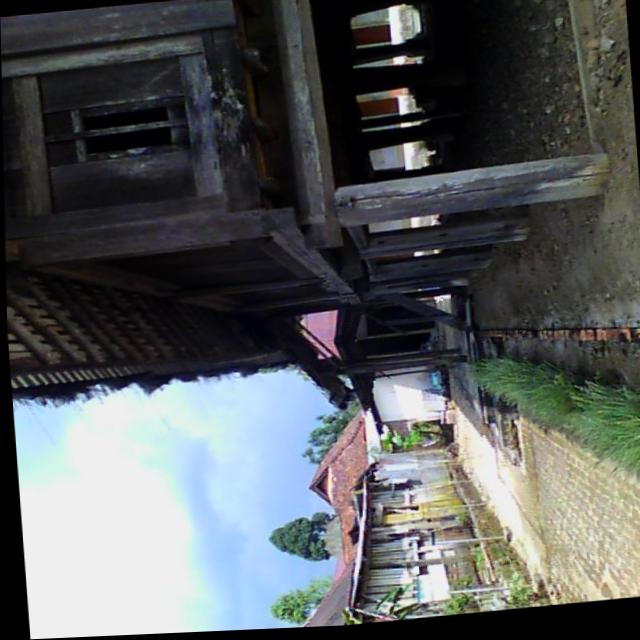Kolom: (363, 118, 451, 150)
Tembok Bangunan: (0, 0, 358, 314)
jendela: (71, 95, 190, 162)
